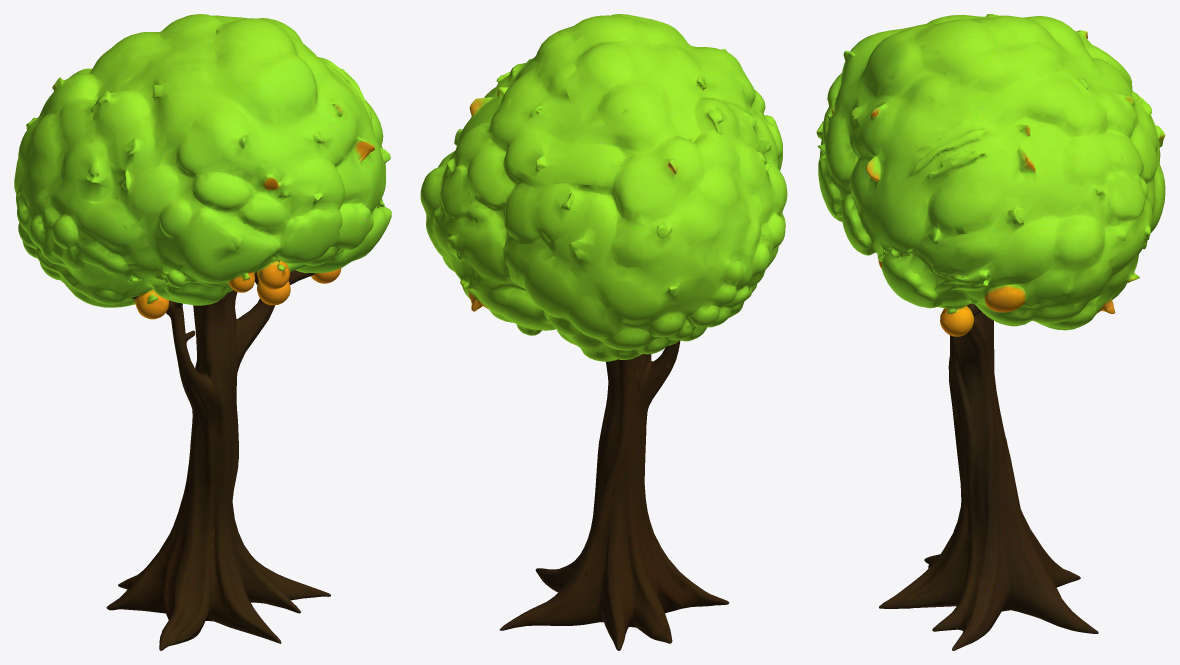
The model's file is tree.glb.
3 views of the same model, side by side, from view 1: azimuth 30°, elevation 25°; view 2: azimuth 150°, elevation 25°; view 3: azimuth 270°, elevation 25° (orthographic). The views are drawn at different scales.
Bounding box in the file's own units: 1.11 × 1.9 × 1.02.
1 material, 1 textured.
